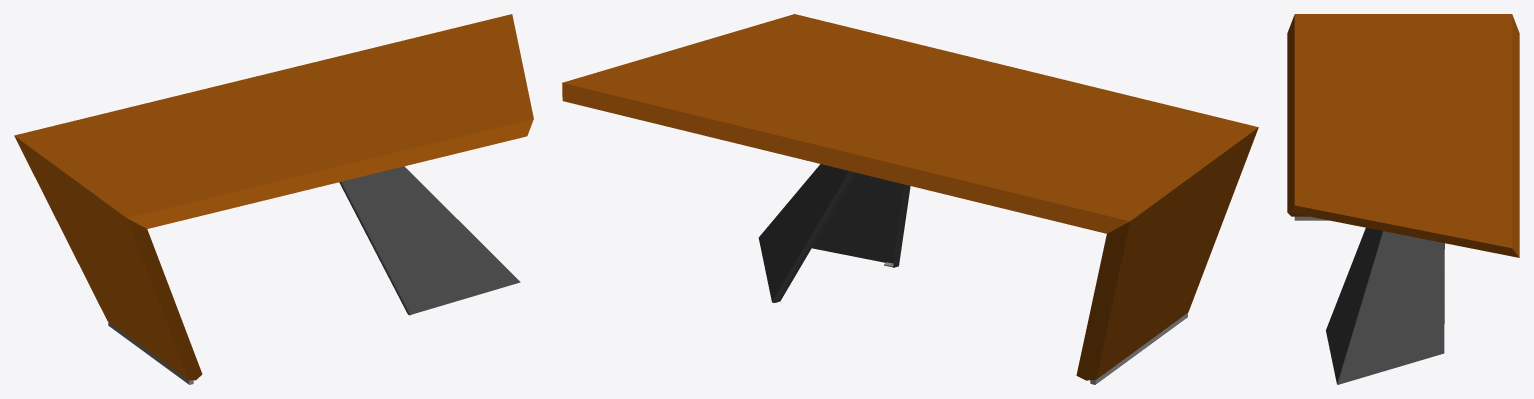
The model's file is стол компановка65.obj.
The picture shows the model from 3 angles, left to right: view 1: azimuth 30°, elevation 25°; view 2: azimuth 150°, elevation 25°; view 3: azimuth 270°, elevation 25°; orthographic projection. The views are drawn at different scales.
Size of the model in its own units: 2.15 by 0.75 by 0.9.
